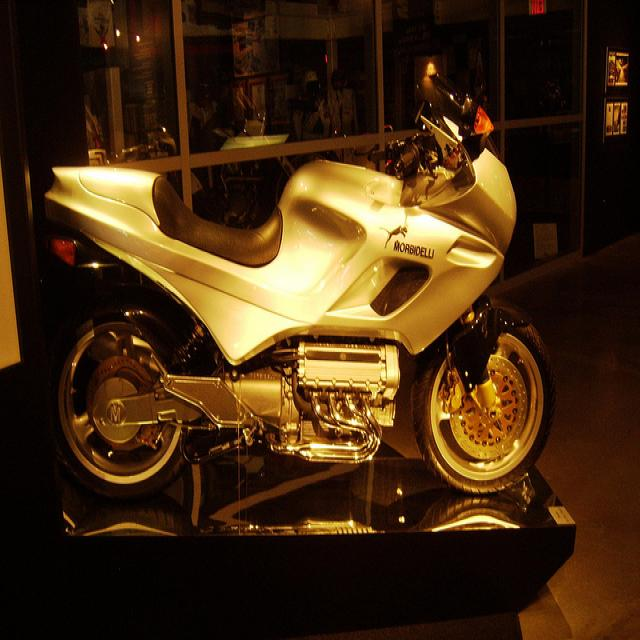motor: (45, 70, 557, 500)
